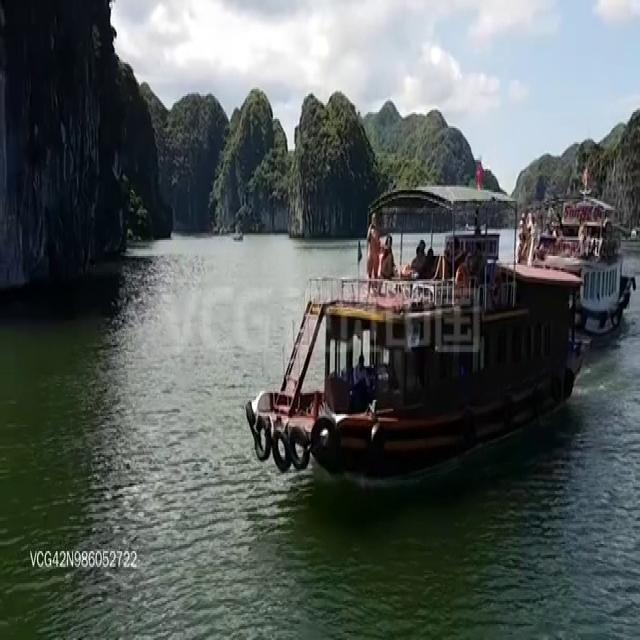passenger ship: (251, 168, 570, 467), (519, 157, 637, 332)
